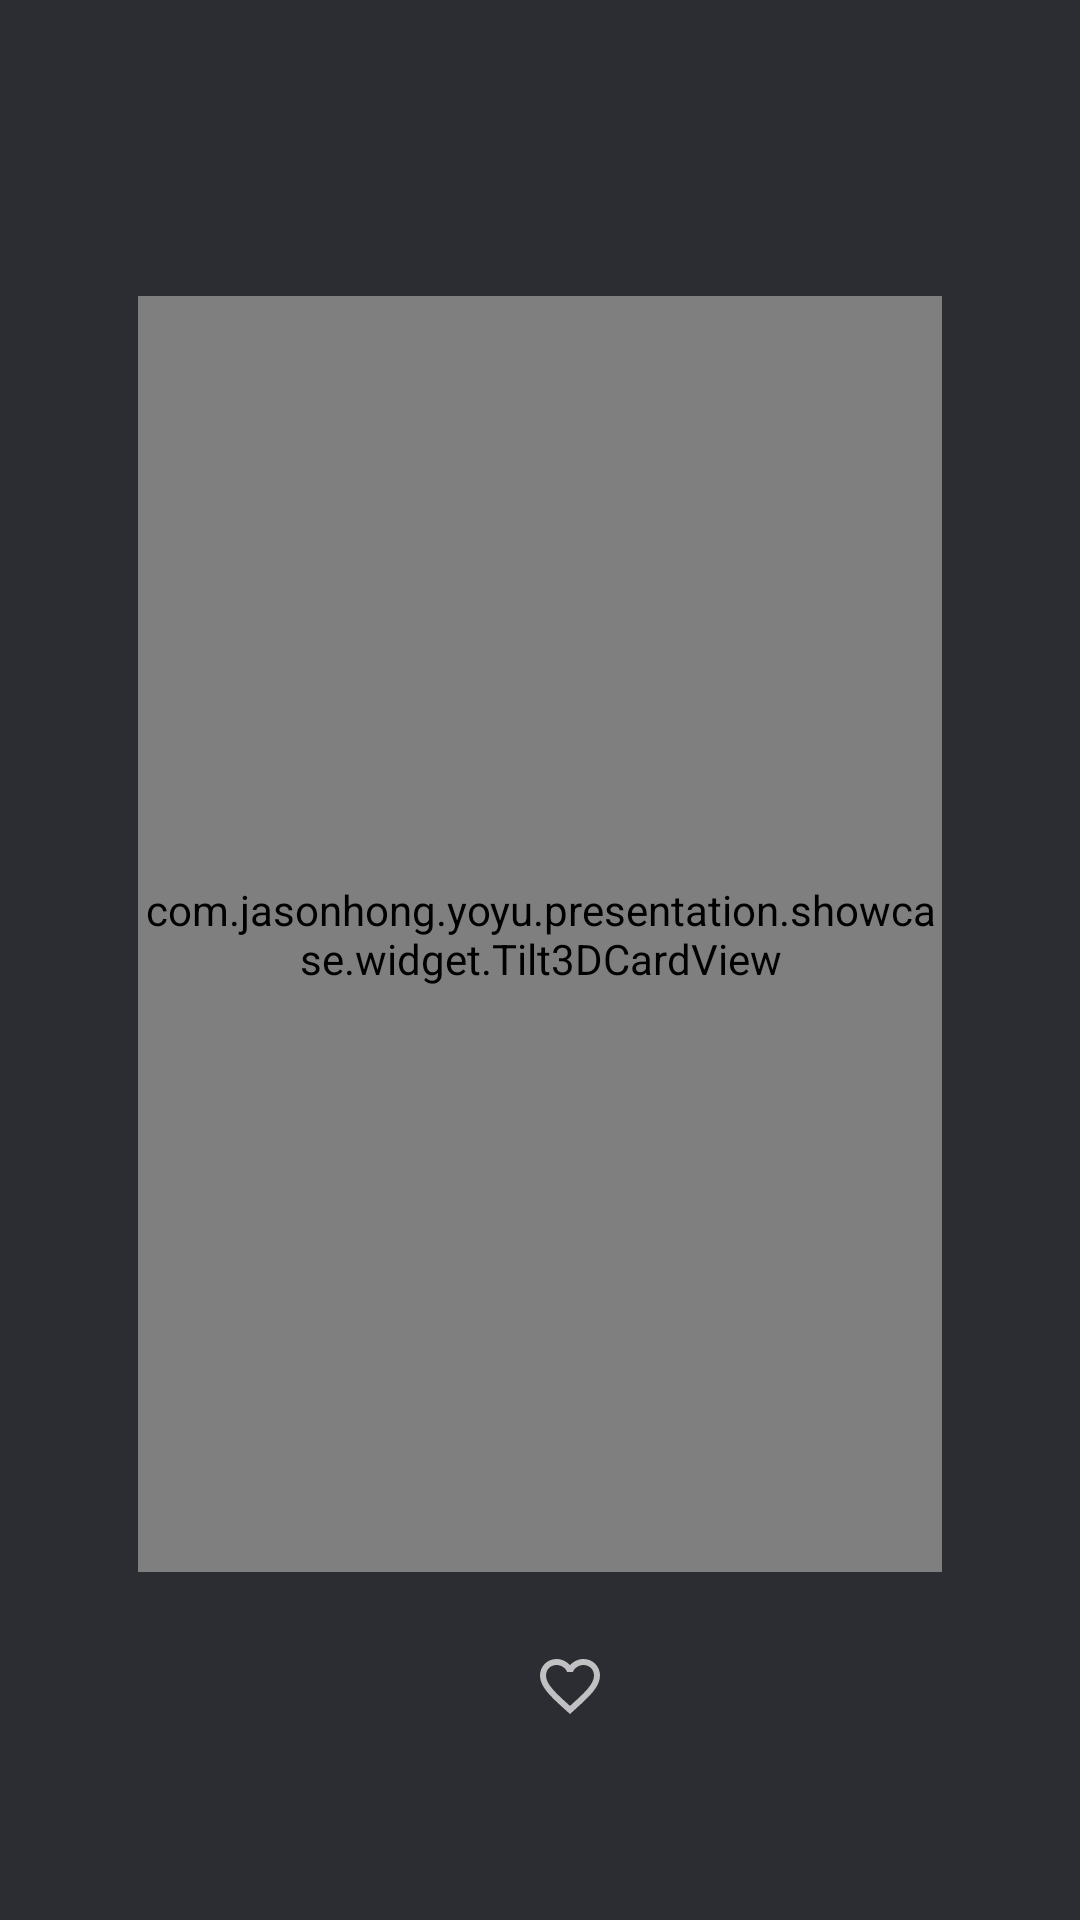

Screen size 1080×1920. Icon name, then its box in pixels as box(x1, y1, x2, y2):
favorite border: box(540, 1659, 600, 1714)
